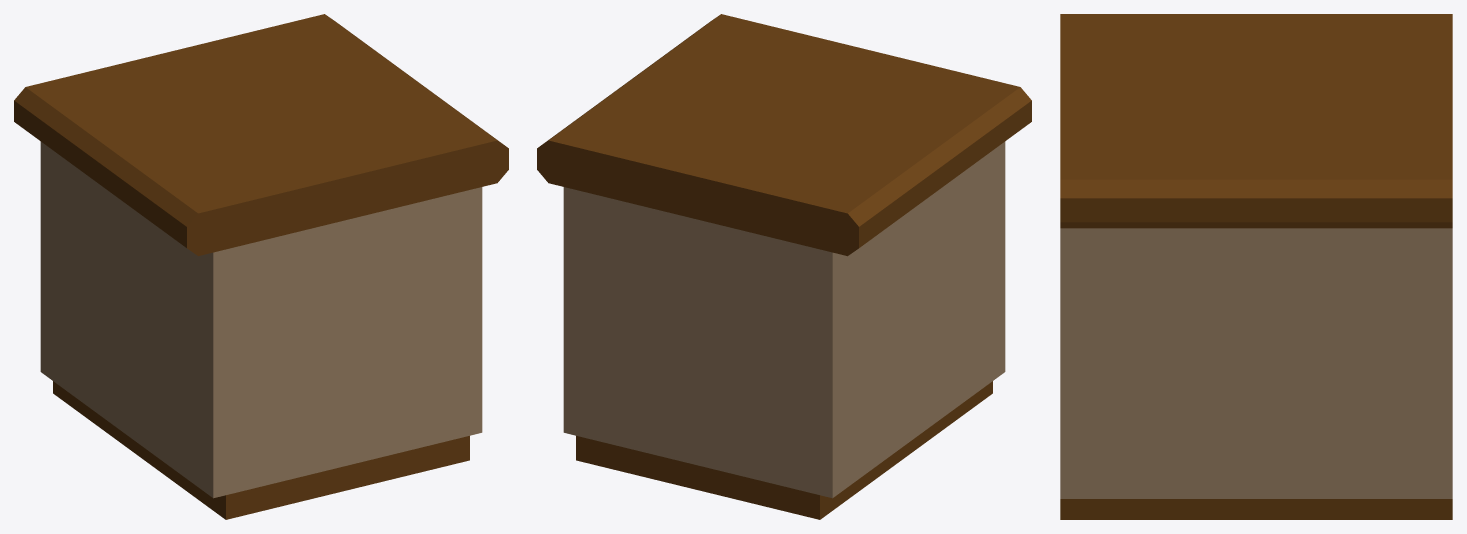
Rendered from SM_Bench_Floating.fbx.
3 renders of one model, left to right at view 1: azimuth 30°, elevation 25°; view 2: azimuth 150°, elevation 25°; view 3: azimuth 270°, elevation 25°, orthographic. The views are drawn at different scales.
Parts seen in each view (by area): view 1: SM_Bench_Floating; view 2: SM_Bench_Floating; view 3: SM_Bench_Floating.
Boxes of the visible parts, x1=… form: SM_Bench_Floating: x1=14, y1=14, x2=508, y2=519; SM_Bench_Floating: x1=537, y1=14, x2=1031, y2=519; SM_Bench_Floating: x1=1060, y1=14, x2=1452, y2=519.
Bounding box in the file's own units: 108 × 100 × 100.
